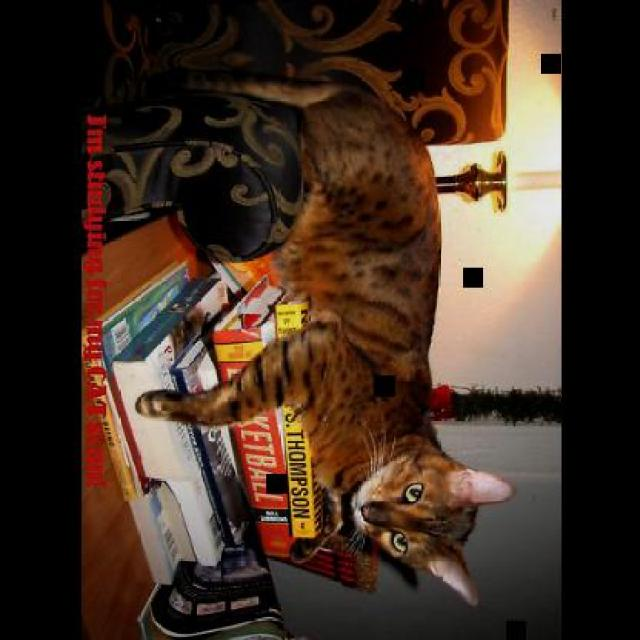unauthorized: (132, 68, 516, 606)
